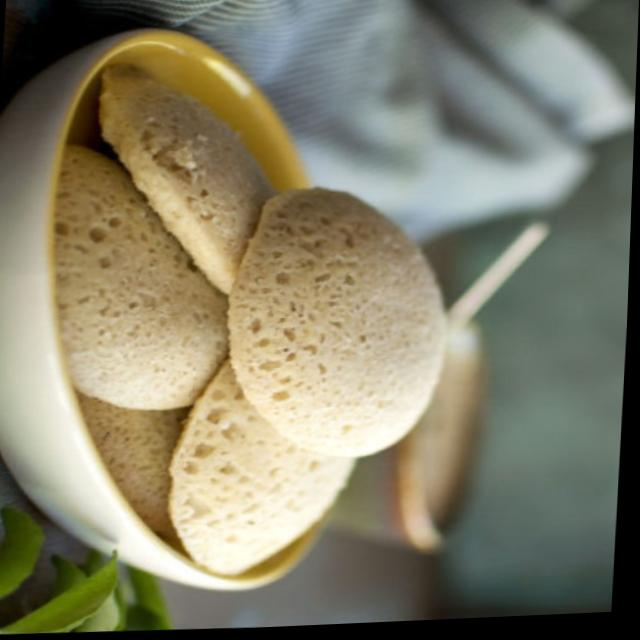IDLI: (54, 64, 447, 570)
